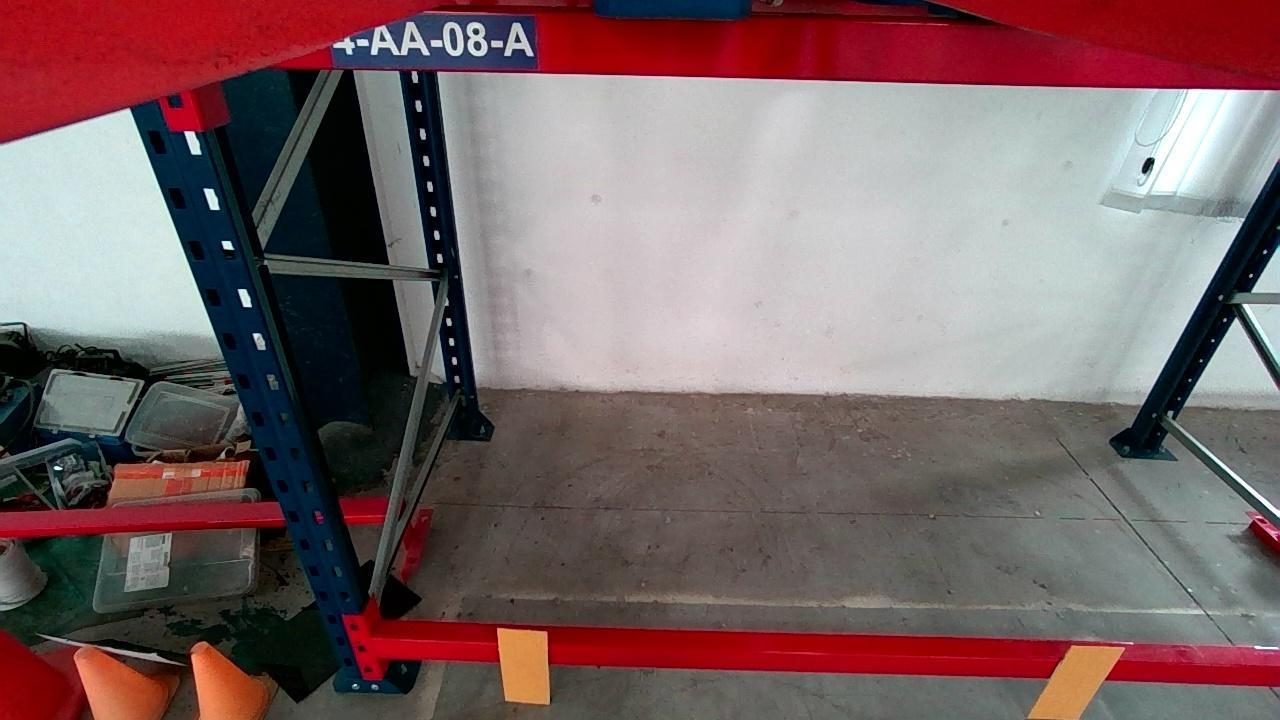h_rack: (260, 15, 1279, 89), (371, 632, 1280, 684)
orange_strip: (1032, 645, 1119, 718), (500, 626, 548, 703)
